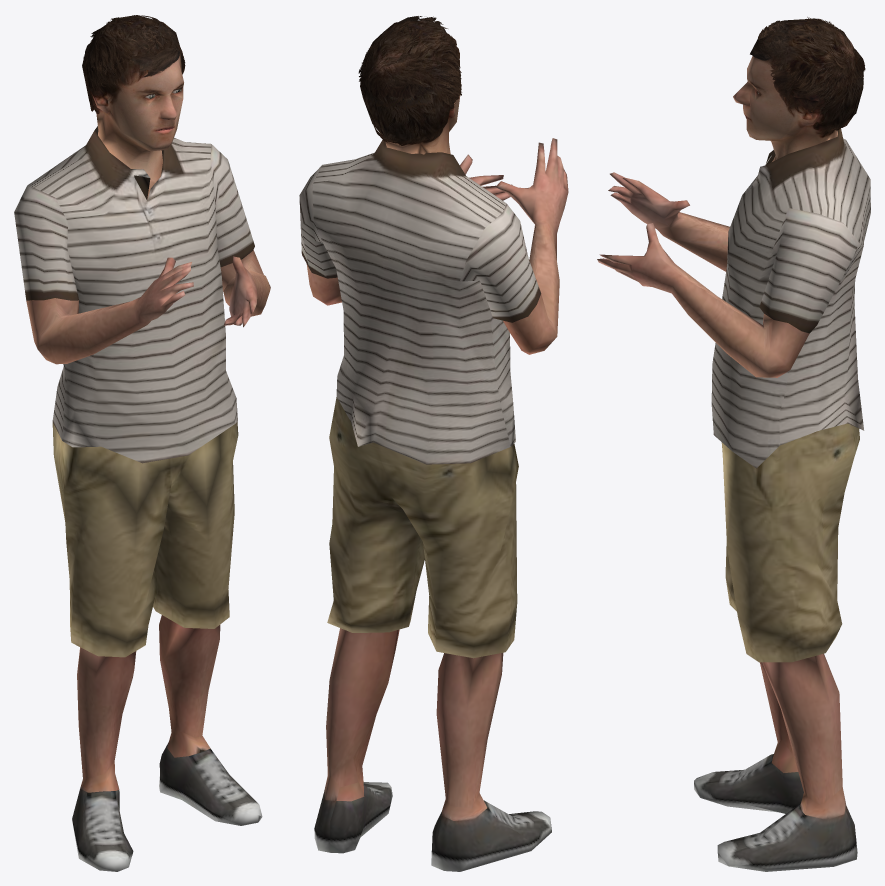
The model's file is Male_Adult_01_clap.glb.
3 renders of one model, left to right at view 1: azimuth 30°, elevation 25°; view 2: azimuth 150°, elevation 25°; view 3: azimuth 270°, elevation 25°, orthographic. The views are drawn at different scales.
Visible parts, largest first — view 1: m002_hipoly_81_bones_opacity_b; view 2: m002_hipoly_81_bones_opacity_b; view 3: m002_hipoly_81_bones_opacity_b.
Part boxes in pixels (<box>): m002_hipoly_81_bones_opacity_b: <box>14,15,270,871</box>; m002_hipoly_81_bones_opacity_b: <box>299,16,568,871</box>; m002_hipoly_81_bones_opacity_b: <box>597,17,870,871</box>.
Bounding box in the file's own units: 0.5579 × 1.82 × 0.5577.
Materials: 3 (3 with a texture image).
